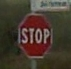stop: (16, 11, 54, 59)
